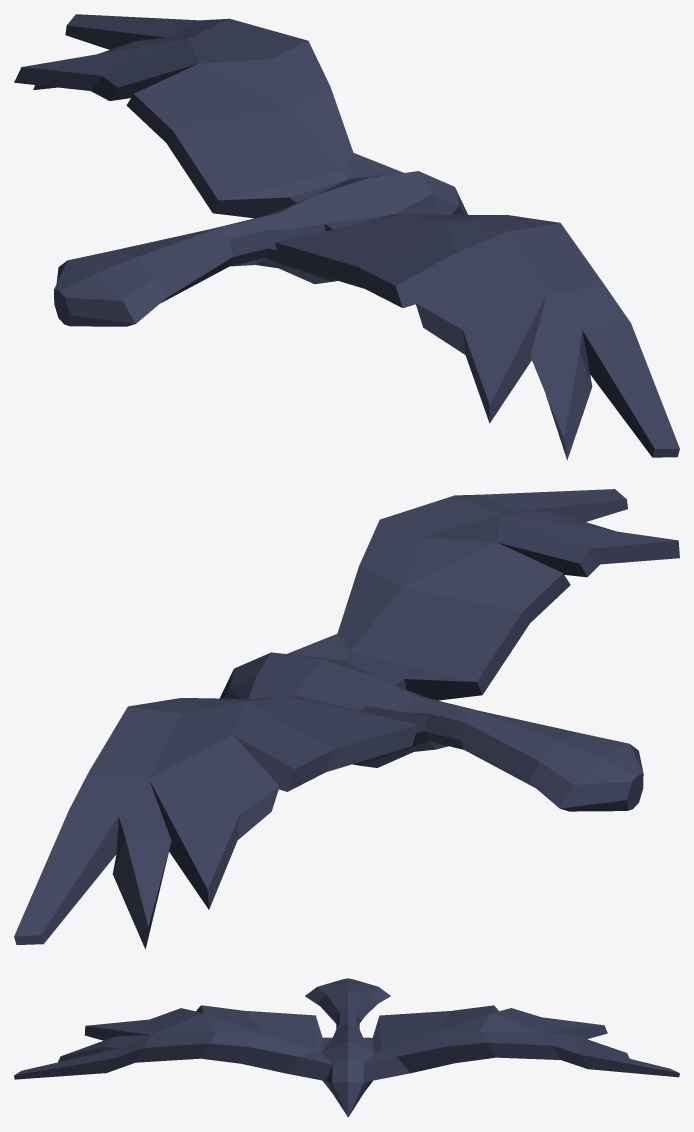
The model's file is BIRD MODEL.fbx.
The picture shows the model from 3 angles, top to bottom: view 1: azimuth 30°, elevation 25°; view 2: azimuth 150°, elevation 25°; view 3: azimuth 270°, elevation 25°; orthographic projection. The views are drawn at different scales.
Parts seen in each view (by area): view 1: Cube; view 2: Cube; view 3: Cube.
Part boxes in pixels (bbox=[...]): Cube: bbox=[14, 14, 679, 460]; Cube: bbox=[14, 489, 679, 949]; Cube: bbox=[14, 978, 679, 1117].
Size of the model in its own units: 569 by 166 by 1403.
